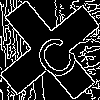C: (25, 25, 83, 84)
